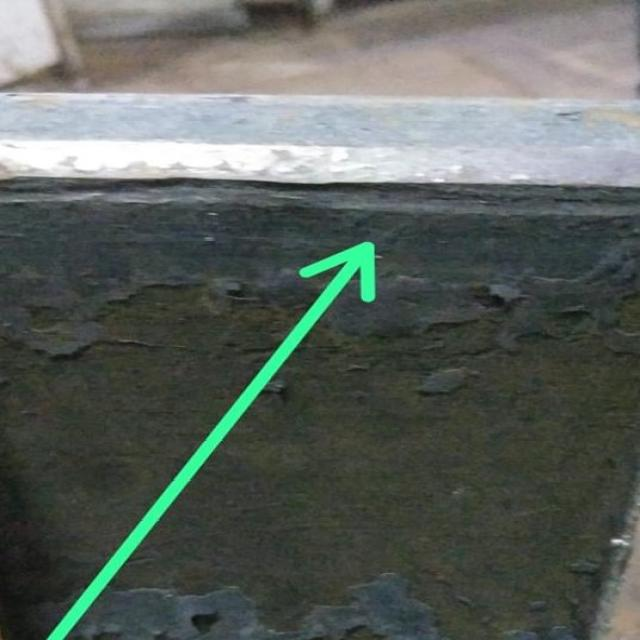defect: (0, 167, 640, 224)
